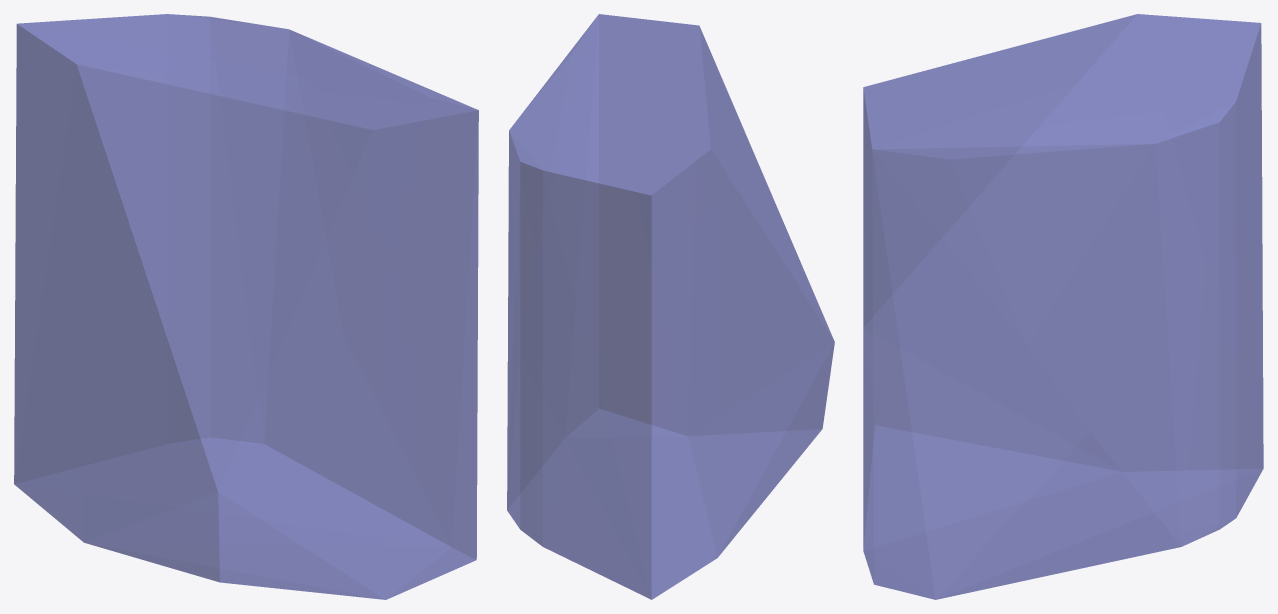
3 renders of one model, left to right at view 1: azimuth 30°, elevation 25°; view 2: azimuth 150°, elevation 25°; view 3: azimuth 270°, elevation 25°, orthographic. The views are drawn at different scales.
Visible parts, largest first — view 1: Shape_IndexedFaceSet.028_Shape_IndexedFaceSet.18251; view 2: Shape_IndexedFaceSet.028_Shape_IndexedFaceSet.18251; view 3: Shape_IndexedFaceSet.028_Shape_IndexedFaceSet.18251.
Boxes of the visible parts, x1,y1,x2,y2 form: Shape_IndexedFaceSet.028_Shape_IndexedFaceSet.18251: (14,14,478,599); Shape_IndexedFaceSet.028_Shape_IndexedFaceSet.18251: (507,14,834,599); Shape_IndexedFaceSet.028_Shape_IndexedFaceSet.18251: (863,14,1263,599).
Bounding box in the file's own units: 0.1132 × 0.1886 × 0.1494.
